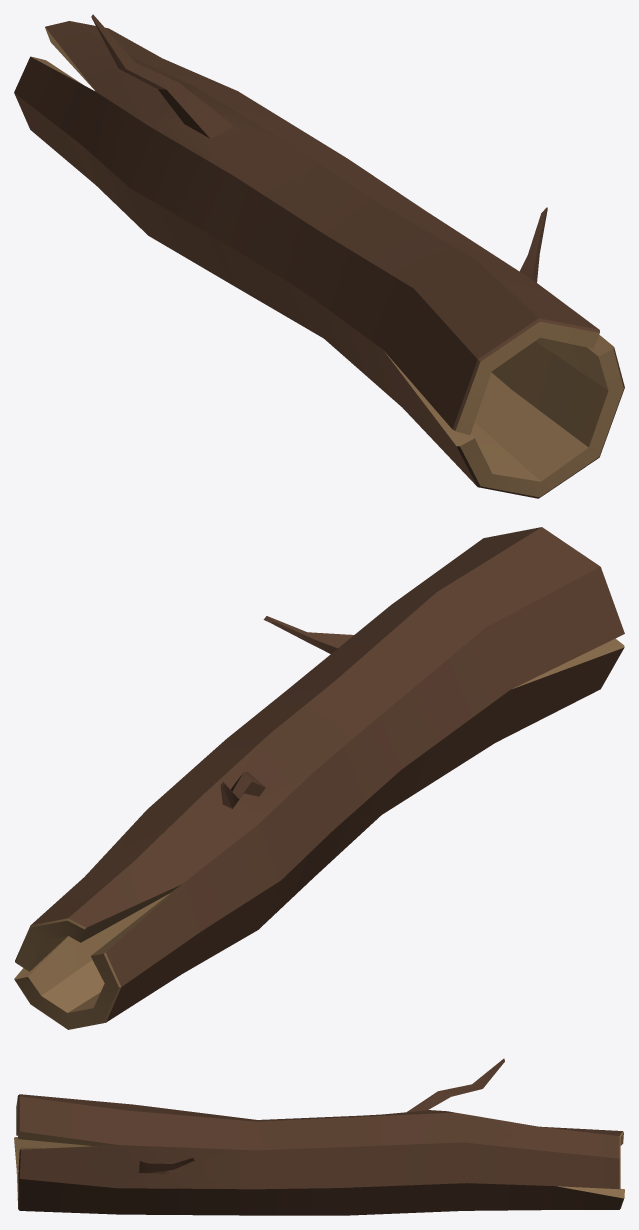
Rendered from DeadLog.fbx.
3 views of the same model, one above another, from view 1: azimuth 30°, elevation 25°; view 2: azimuth 150°, elevation 25°; view 3: azimuth 270°, elevation 25° (orthographic). The views are drawn at different scales.
Parts seen in each view (by area): view 1: Baumstamm; view 2: Baumstamm; view 3: Baumstamm.
Part boxes in pixels (x1=…): Baumstamm: x1=14, y1=14, x2=624, y2=498; Baumstamm: x1=14, y1=527, x2=624, y2=1029; Baumstamm: x1=14, y1=1058, x2=624, y2=1215.
Bounding box in the file's own units: 273 × 237 × 983.
